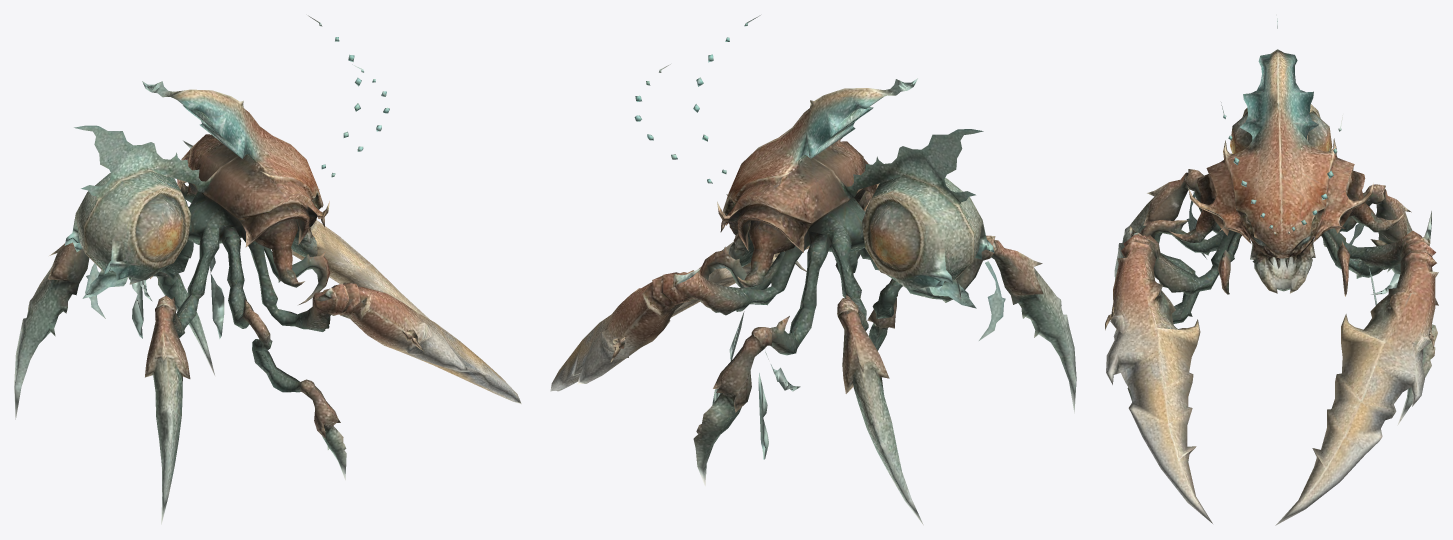
Rendered from hadal-brineblade-reaver-echo.glb.
3 renders of one model, left to right at view 1: azimuth 30°, elevation 25°; view 2: azimuth 150°, elevation 25°; view 3: azimuth 270°, elevation 25°, orthographic. The views are drawn at different scales.
Visible parts, largest first — view 1: tripo_node_5c833193-e895-4f71-b151-05b74832289b; view 2: tripo_node_5c833193-e895-4f71-b151-05b74832289b; view 3: tripo_node_5c833193-e895-4f71-b151-05b74832289b.
Part boxes in pixels (<box>): tripo_node_5c833193-e895-4f71-b151-05b74832289b: <box>14,15,521,524</box>; tripo_node_5c833193-e895-4f71-b151-05b74832289b: <box>550,15,1076,525</box>; tripo_node_5c833193-e895-4f71-b151-05b74832289b: <box>1105,18,1438,525</box>.
Size of the model in its own units: 0.998 by 0.8809 by 0.752.
Materials: 1 (1 with a texture image).
